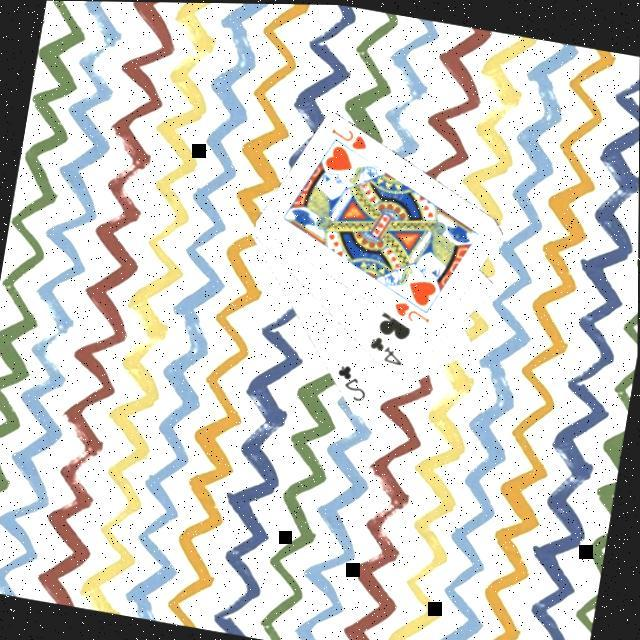2C: (332, 361, 376, 406)
4C: (366, 332, 412, 371)
JH: (328, 123, 374, 155), (391, 298, 437, 329)
